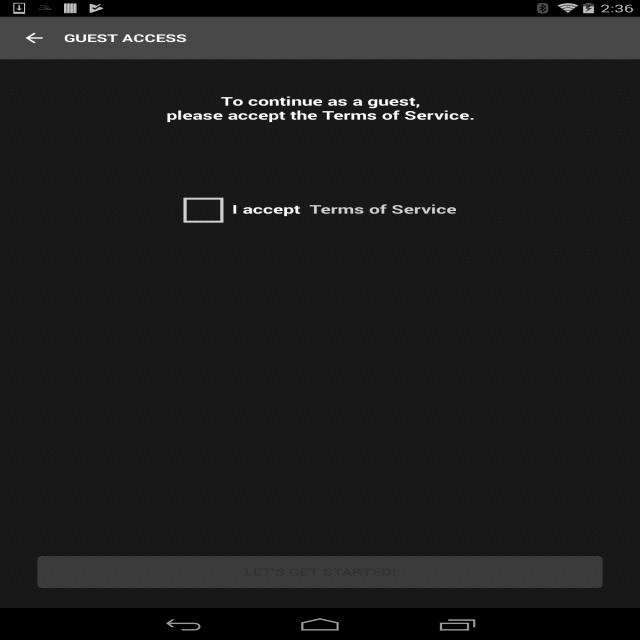Button: (38, 554, 604, 587)
CheckBox: (180, 197, 227, 224)
ImageButton: (21, 31, 47, 45)
TextView: (151, 96, 479, 122), (230, 200, 460, 217), (62, 31, 189, 45)
